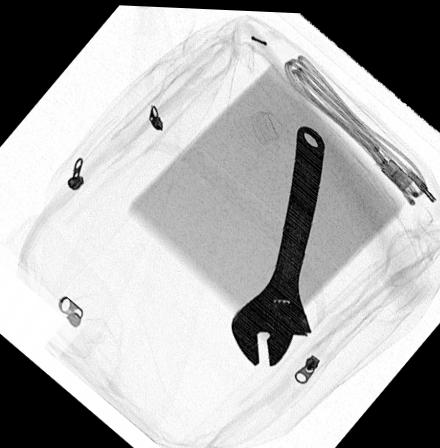Wrench: (230, 122, 327, 367)
